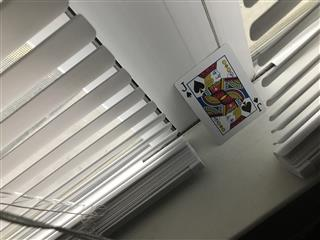JackOfSpades: (174, 43, 267, 145)
